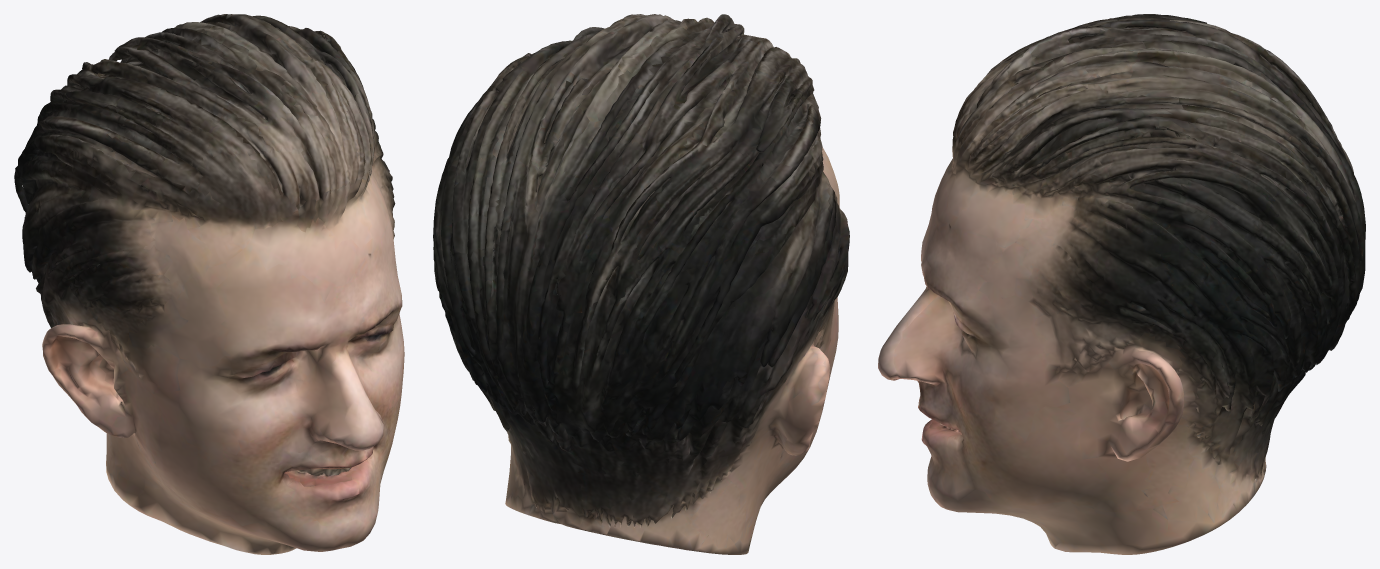
Rendered from head_beau.glb.
3 views of the same model, side by side, from view 1: azimuth 30°, elevation 25°; view 2: azimuth 150°, elevation 25°; view 3: azimuth 270°, elevation 25° (orthographic). The views are drawn at different scales.
Visible parts, largest first — view 1: Beau; view 2: Beau; view 3: Beau.
Part boxes in pixels (x1,y1,x2,y2): Beau: (14, 14, 404, 554); Beau: (433, 14, 849, 554); Beau: (878, 14, 1365, 554).
Bounding box in the file's own units: 0.1924 × 0.2627 × 0.2355.
1 material, 1 textured.
